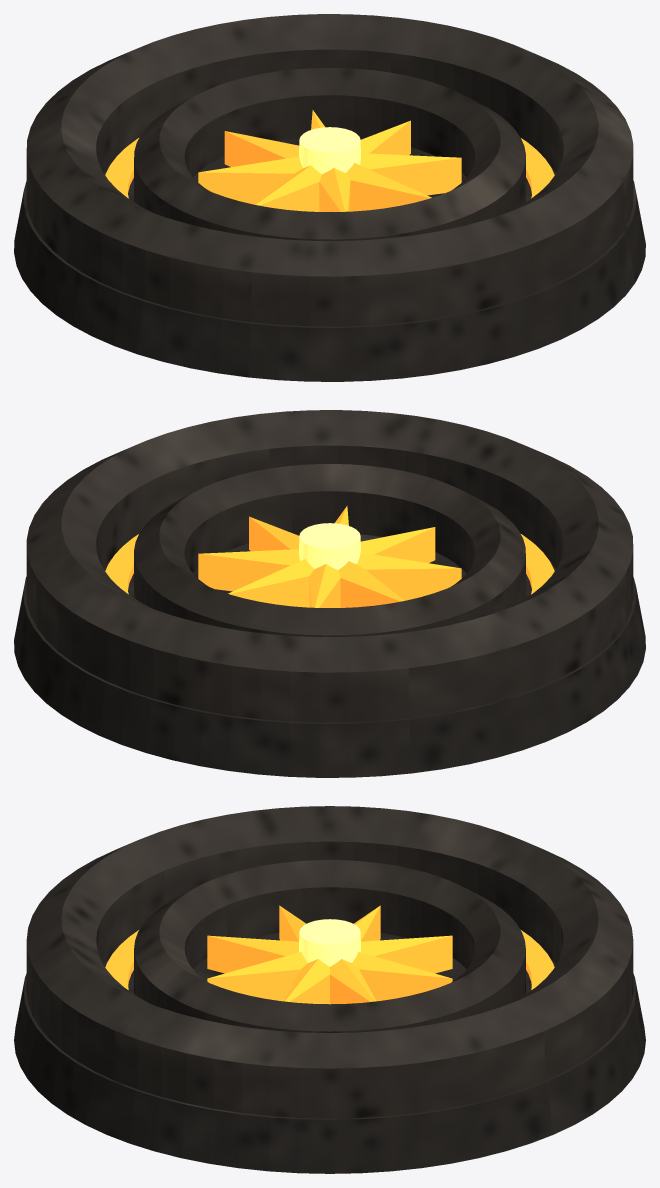
Rendered from CReMana01.glb.
The picture shows the model from 3 angles, top to bottom: view 1: azimuth 30°, elevation 25°; view 2: azimuth 150°, elevation 25°; view 3: azimuth 270°, elevation 25°; orthographic projection.
Visible parts, largest first — view 1: floor; view 2: floor; view 3: floor.
Part boxes in pixels (<box>): floor: <box>14,14,645,381</box>; floor: <box>14,410,645,777</box>; floor: <box>14,806,645,1173</box>.
Bounding box in the file's own units: 1.38 × 0.29 × 1.38.
3 materials, 1 textured.
